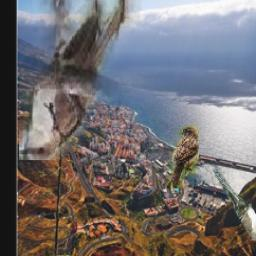Cuckoo: (20, 0, 144, 161), (213, 165, 256, 241)
Sparrow: (167, 124, 200, 188)
